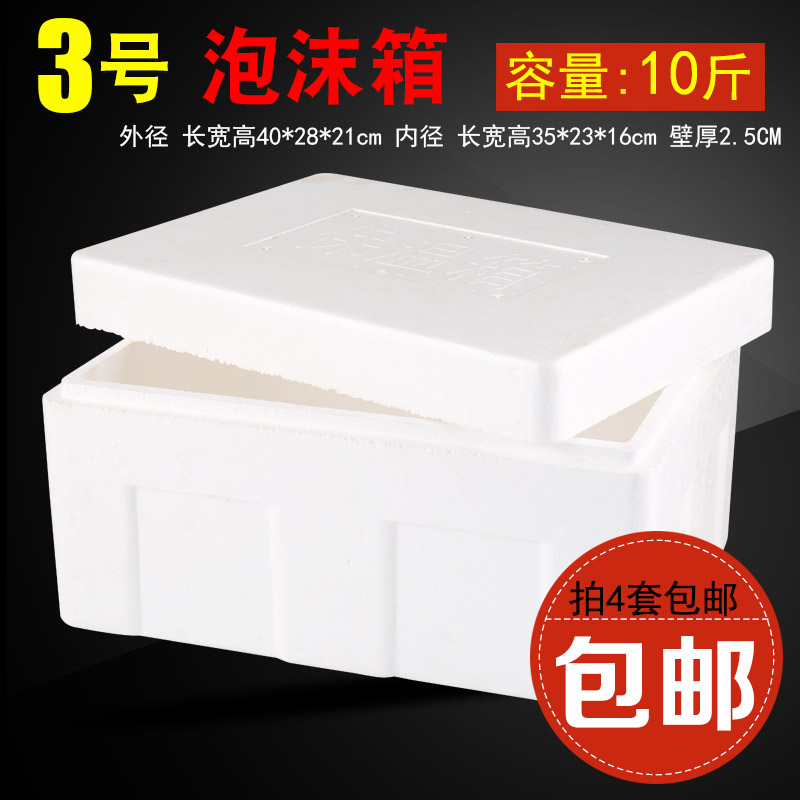泡沫箱: (43, 175, 772, 697)
